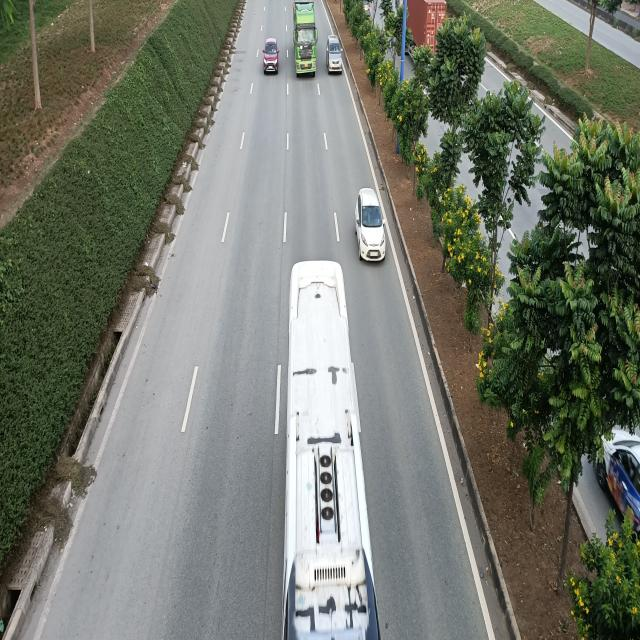car: (355, 186, 385, 260), (327, 36, 345, 74), (264, 40, 282, 76)
coach: (280, 258, 380, 640)
container: (292, 0, 319, 72)
